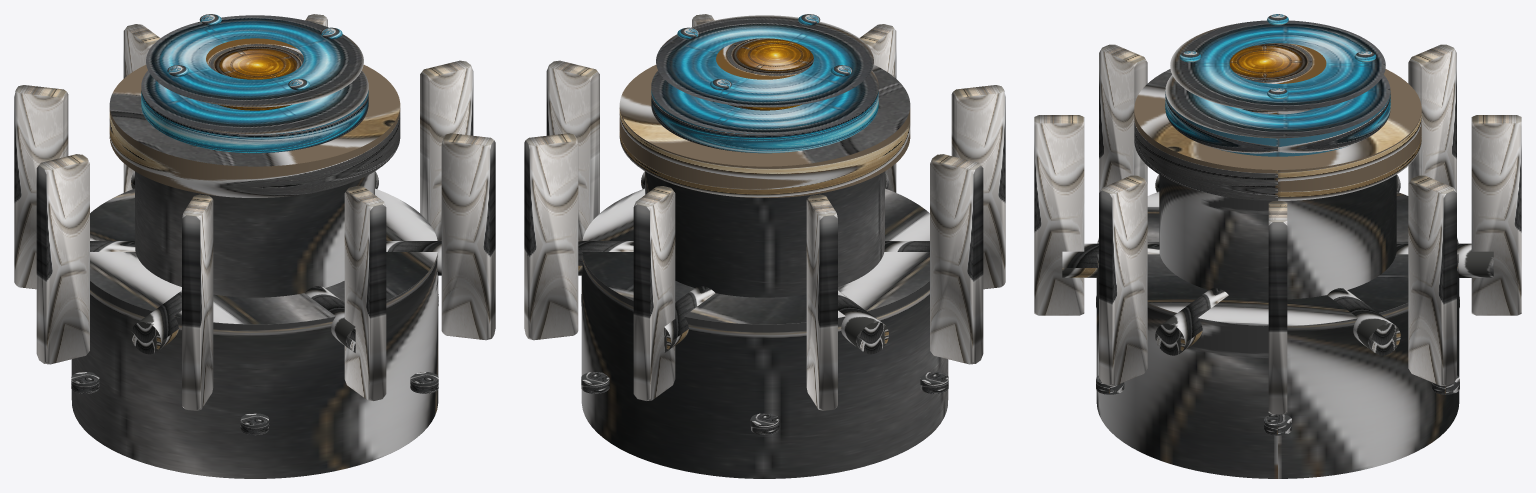
Rendered from room_l5_v3_reclamation_core_altar.glb.
The picture shows the model from 3 angles, left to right: view 1: azimuth 30°, elevation 25°; view 2: azimuth 150°, elevation 25°; view 3: azimuth 270°, elevation 25°; orthographic projection.
Visible parts, largest first — view 1: round_graphite_base, tall_inner_pedestal, brass_top_ring, visible_cyan_lens_inlay, white_ceramic_petal_1, white_ceramic_petal_4, cyan_core_lens_top, white_ceramic_petal_2, white_ceramic_petal_5, white_ceramic_petal_3, white_ceramic_petal_0, visible_amber_lens_inlay (+7 smaller); view 2: round_graphite_base, tall_inner_pedestal, brass_top_ring, visible_cyan_lens_inlay, white_ceramic_petal_7, white_ceramic_petal_4, cyan_core_lens_top, white_ceramic_petal_6, white_ceramic_petal_3, white_ceramic_petal_5, white_ceramic_petal_0, visible_amber_lens_inlay (+7 smaller); view 3: round_graphite_base, tall_inner_pedestal, brass_top_ring, visible_cyan_lens_inlay, cyan_core_lens_top, white_ceramic_petal_1, white_ceramic_petal_7, white_ceramic_petal_2, white_ceramic_petal_6, white_ceramic_petal_3, white_ceramic_petal_5, white_ceramic_petal_0 (+6 smaller).
Part boxes in pixels (x1,y1,x2,y2): round_graphite_base: [71, 188, 438, 478]; tall_inner_pedestal: [135, 171, 374, 297]; brass_top_ring: [109, 65, 400, 197]; visible_cyan_lens_inlay: [146, 15, 363, 107]; white_ceramic_petal_1: [441, 133, 495, 340]; white_ceramic_petal_4: [36, 154, 89, 364]; cyan_core_lens_top: [141, 70, 368, 153]; white_ceramic_petal_2: [344, 186, 386, 400]; white_ceramic_petal_5: [14, 85, 68, 289]; white_ceramic_petal_3: [182, 194, 213, 410]; white_ceramic_petal_0: [420, 60, 473, 240]; visible_amber_lens_inlay: [206, 38, 303, 79]; round_graphite_base: [581, 188, 948, 478]; tall_inner_pedestal: [645, 171, 884, 297]; brass_top_ring: [619, 65, 910, 197]; visible_cyan_lens_inlay: [656, 15, 873, 107]; white_ceramic_petal_7: [524, 133, 578, 340]; white_ceramic_petal_4: [930, 154, 983, 364]; cyan_core_lens_top: [651, 70, 878, 153]; white_ceramic_petal_6: [633, 186, 675, 400]; white_ceramic_petal_3: [951, 85, 1005, 289]; white_ceramic_petal_5: [806, 194, 837, 410]; white_ceramic_petal_0: [546, 60, 599, 240]; visible_amber_lens_inlay: [716, 38, 813, 79]; round_graphite_base: [1096, 191, 1459, 478]; tall_inner_pedestal: [1159, 175, 1396, 299]; brass_top_ring: [1134, 69, 1421, 200]; visible_cyan_lens_inlay: [1170, 20, 1385, 111]; cyan_core_lens_top: [1165, 75, 1390, 156]; white_ceramic_petal_1: [1099, 175, 1147, 385]; white_ceramic_petal_7: [1408, 175, 1456, 385]; white_ceramic_petal_2: [1034, 115, 1084, 315]; white_ceramic_petal_6: [1471, 115, 1521, 315]; white_ceramic_petal_3: [1099, 44, 1147, 192]; white_ceramic_petal_5: [1408, 44, 1456, 192]; white_ceramic_petal_0: [1268, 201, 1287, 414].
Bounding box in the file's own units: 1.56 × 1.23 × 1.56.
10 materials, 10 textured.
